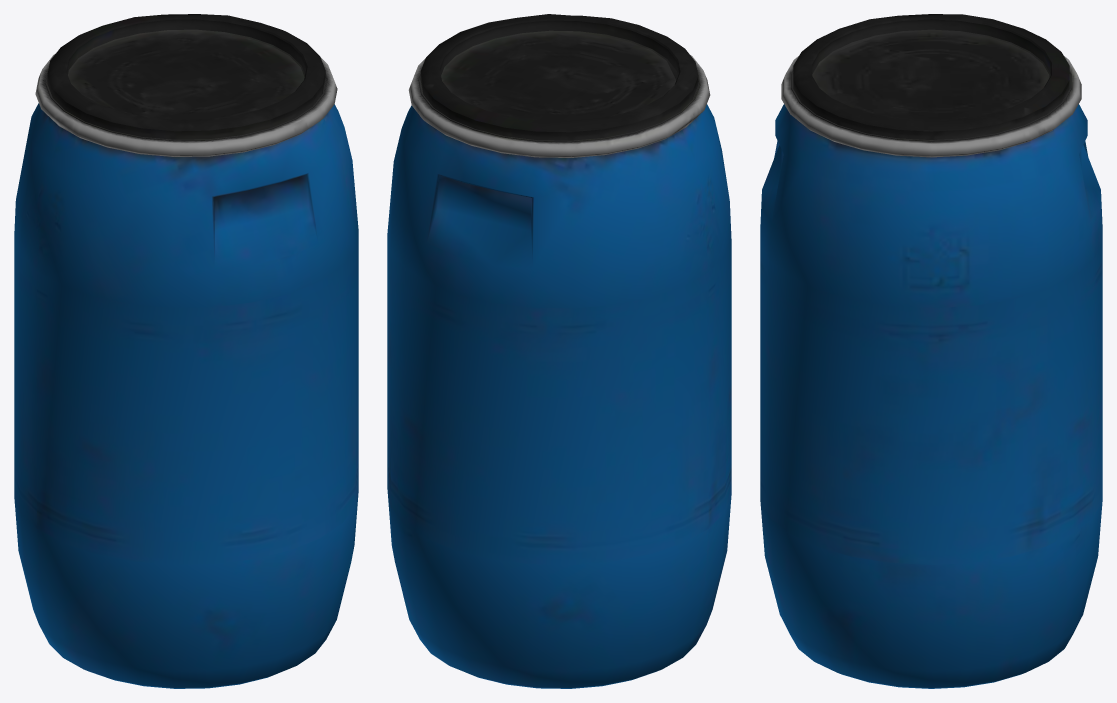
Rendered from ph_Barrel_02.glb.
3 views of the same model, side by side, from view 1: azimuth 30°, elevation 25°; view 2: azimuth 150°, elevation 25°; view 3: azimuth 270°, elevation 25° (orthographic).
Visible parts, largest first — view 1: Barrel_02; view 2: Barrel_02; view 3: Barrel_02.
Part boxes in pixels (left/top/right/bottom): Barrel_02: left=14, top=14, right=358, bottom=688; Barrel_02: left=387, top=14, right=731, bottom=688; Barrel_02: left=760, top=14, right=1102, bottom=688.
Bounding box in the file's own units: 0.4882 × 0.88 × 0.4846.
1 material, 1 textured.
